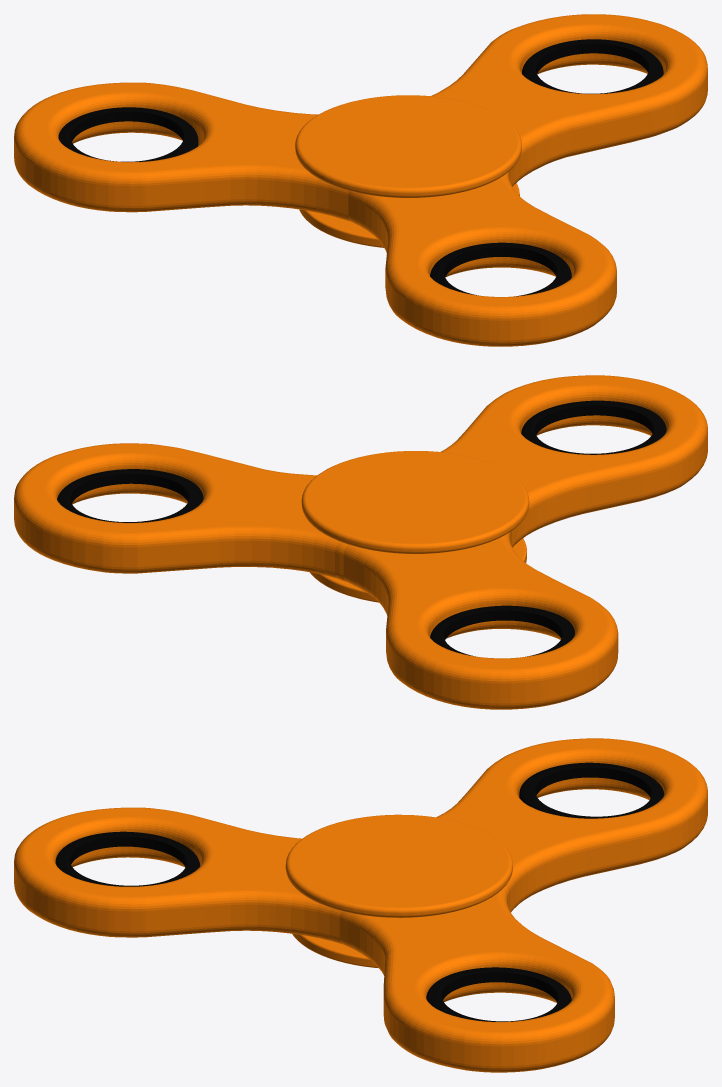
File: FidgetSpinner.fbx
3 renders of one model, top to bottom at view 1: azimuth 30°, elevation 25°; view 2: azimuth 150°, elevation 25°; view 3: azimuth 270°, elevation 25°, orthographic.
Parts seen in each view (by area): view 1: Extrude, Extrude.1, Boolean.2, Boolean, Boolean.1, Extrude.2; view 2: Extrude, Extrude.1, Boolean.1, Boolean.2, Boolean, Extrude.2; view 3: Extrude, Extrude.1, Boolean, Boolean.1, Boolean.2, Extrude.2.
Boxes of the visible parts, x1=… form: Extrude: x1=14, y1=14, x2=707, y2=346; Extrude.1: x1=295, y1=95, x2=521, y2=197; Boolean.2: x1=522, y1=39, x2=663, y2=93; Boolean: x1=58, y1=107, x2=198, y2=161; Boolean.1: x1=430, y1=242, x2=571, y2=296; Extrude.2: x1=299, y1=183, x2=519, y2=247; Extrude: x1=14, y1=375, x2=707, y2=709; Extrude.1: x1=301, y1=451, x2=529, y2=553; Boolean.1: x1=521, y1=400, x2=666, y2=454; Boolean.2: x1=57, y1=469, x2=203, y2=522; Boolean: x1=430, y1=605, x2=574, y2=656; Extrude.2: x1=310, y1=538, x2=526, y2=602; Extrude: x1=14, y1=738, x2=707, y2=1072; Extrude.1: x1=285, y1=814, x2=512, y2=917; Boolean: x1=519, y1=762, x2=664, y2=818; Boolean.1: x1=55, y1=831, x2=200, y2=886; Boolean.2: x1=426, y1=967, x2=571, y2=1021; Extrude.2: x1=292, y1=933, x2=377, y2=967.
Size of the model in its own units: 327 by 30.94 by 317.
